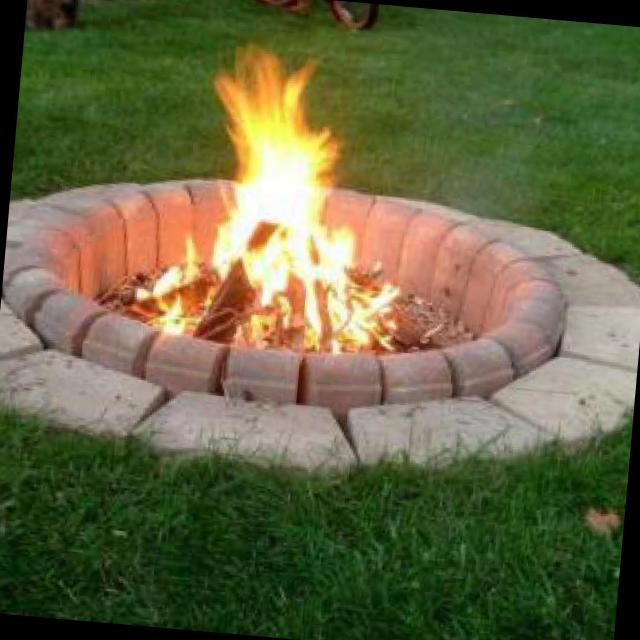fire: (148, 49, 388, 340)
